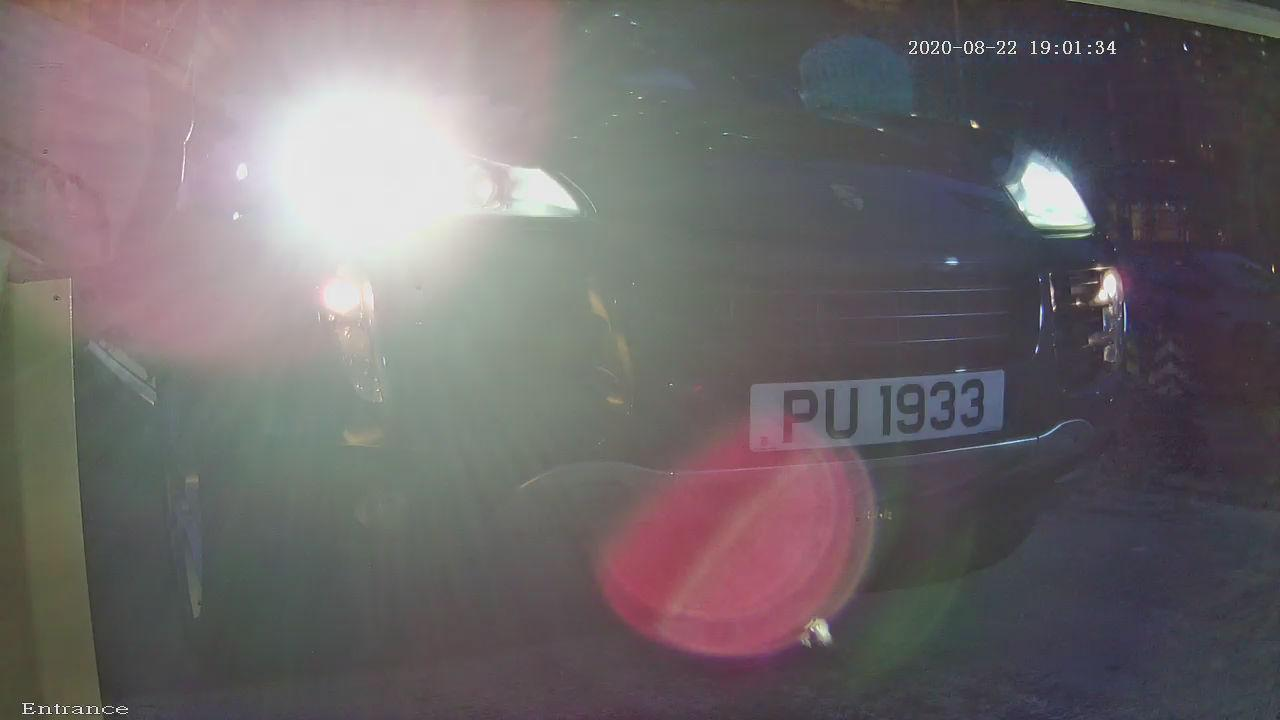Car: (18, 26, 1246, 656)
License Plate: (699, 303, 1095, 503)
